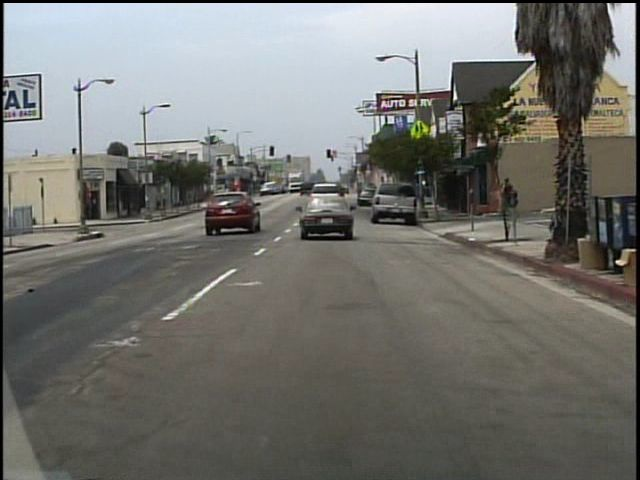person: (504, 178, 516, 217), (495, 182, 507, 217)
